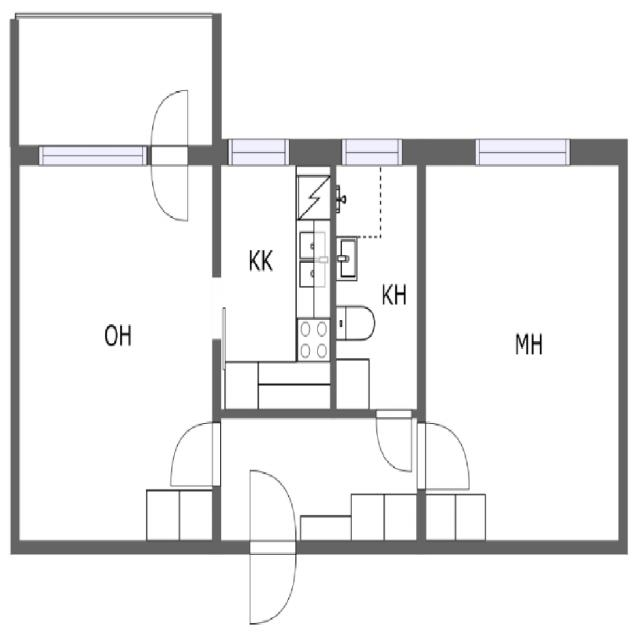door: (250, 539, 296, 624), (250, 469, 296, 554), (417, 422, 469, 489), (171, 424, 221, 486), (152, 88, 188, 165), (152, 145, 188, 221), (375, 408, 413, 474)
